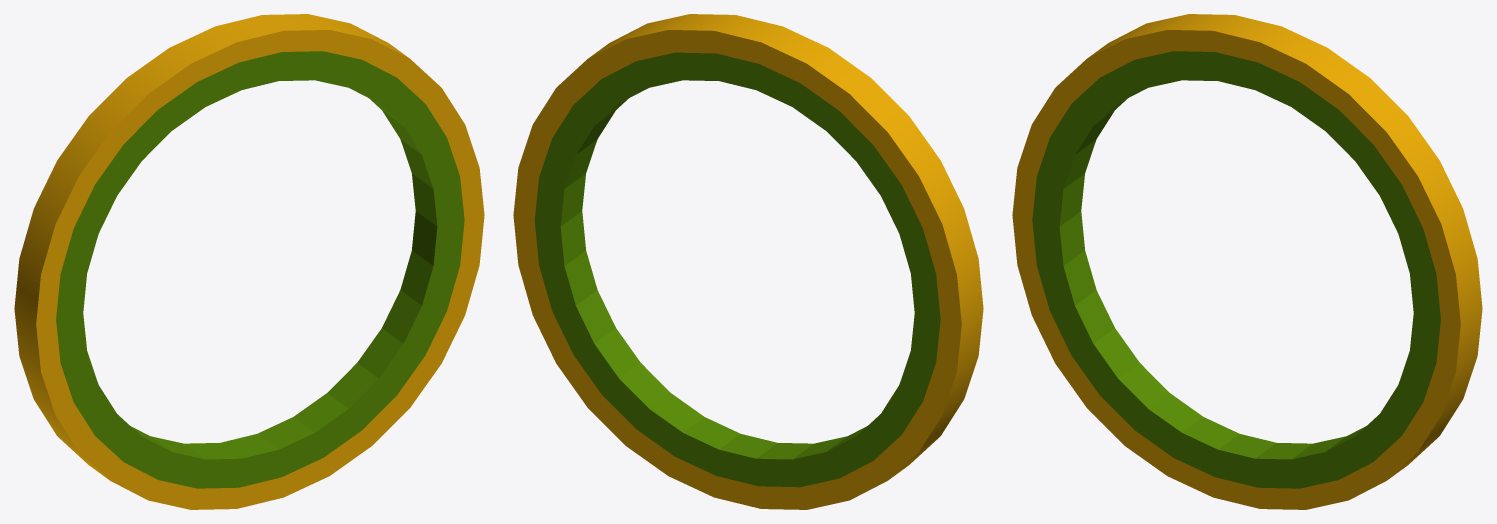
Rendered from Ring.fbx.
The picture shows the model from 3 angles, left to right: view 1: azimuth 30°, elevation 25°; view 2: azimuth 150°, elevation 25°; view 3: azimuth 330°, elevation 25°; orthographic projection.
Parts seen in each view (by area): view 1: Ring, Stroke; view 2: Stroke, Ring; view 3: Ring, Stroke.
Boxes of the visible parts, box(x1,y1,x2,y2) form: Ring: box(56, 51, 464, 488); Stroke: box(14, 14, 484, 509); Stroke: box(513, 14, 983, 509); Ring: box(534, 52, 940, 487); Ring: box(1032, 51, 1440, 488); Stroke: box(1012, 14, 1482, 509).
Size of the model in its own units: 0.8576 by 0.8529 by 0.0718.
